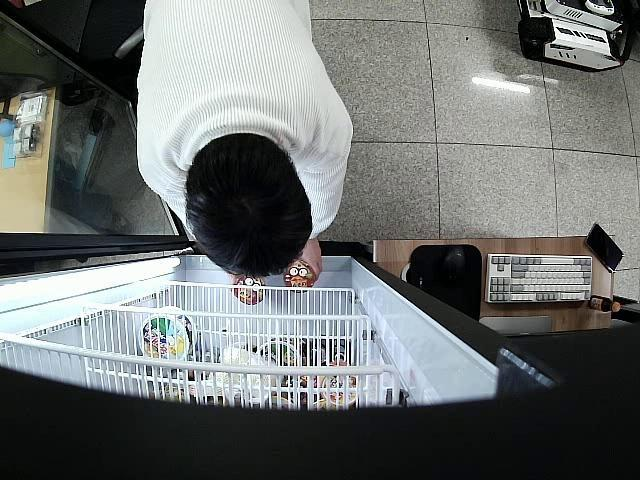06_nuguri_S: (284, 262, 315, 292)
